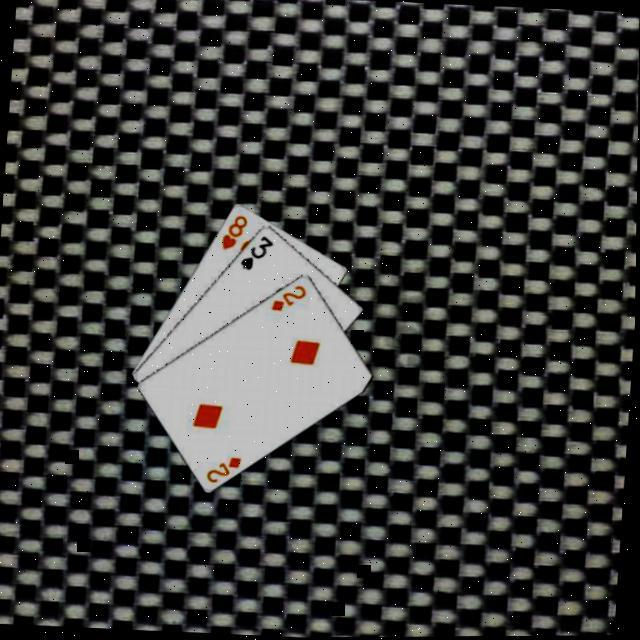2D: (203, 453, 246, 488), (268, 282, 310, 316)
3S: (238, 233, 276, 275)
8H: (219, 212, 251, 254)
